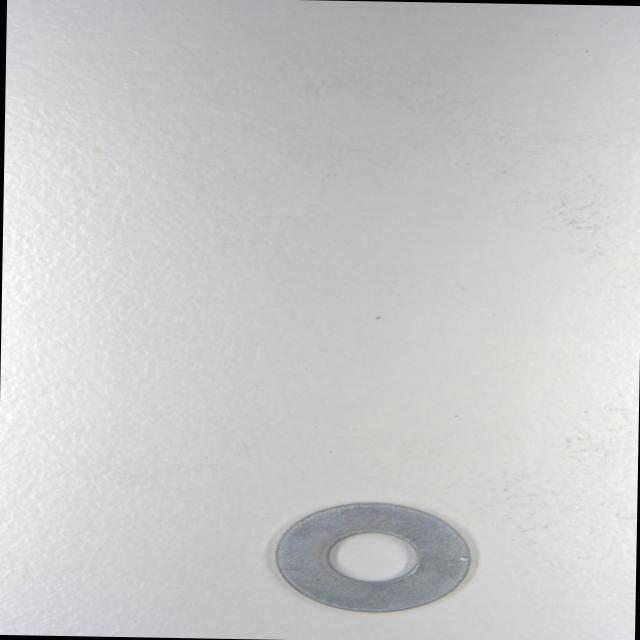washer: (270, 498, 474, 616)
